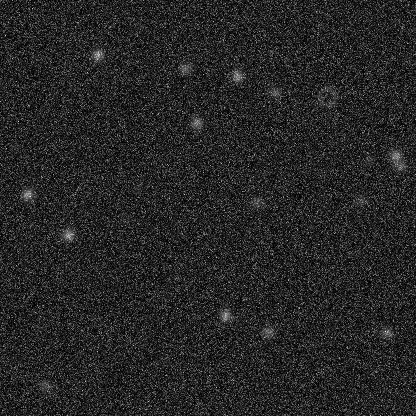Ring: (315, 85, 339, 109)
Spot: (248, 194, 264, 210), (259, 323, 275, 339), (217, 307, 233, 323), (267, 84, 283, 100), (392, 157, 408, 173), (352, 192, 368, 208), (188, 114, 204, 130), (60, 226, 76, 242), (378, 324, 394, 340), (229, 68, 245, 84), (387, 147, 403, 163), (115, 212, 131, 228), (36, 378, 52, 394), (360, 151, 376, 167), (89, 46, 105, 62), (132, 178, 148, 194), (19, 186, 35, 202), (176, 60, 192, 76)
